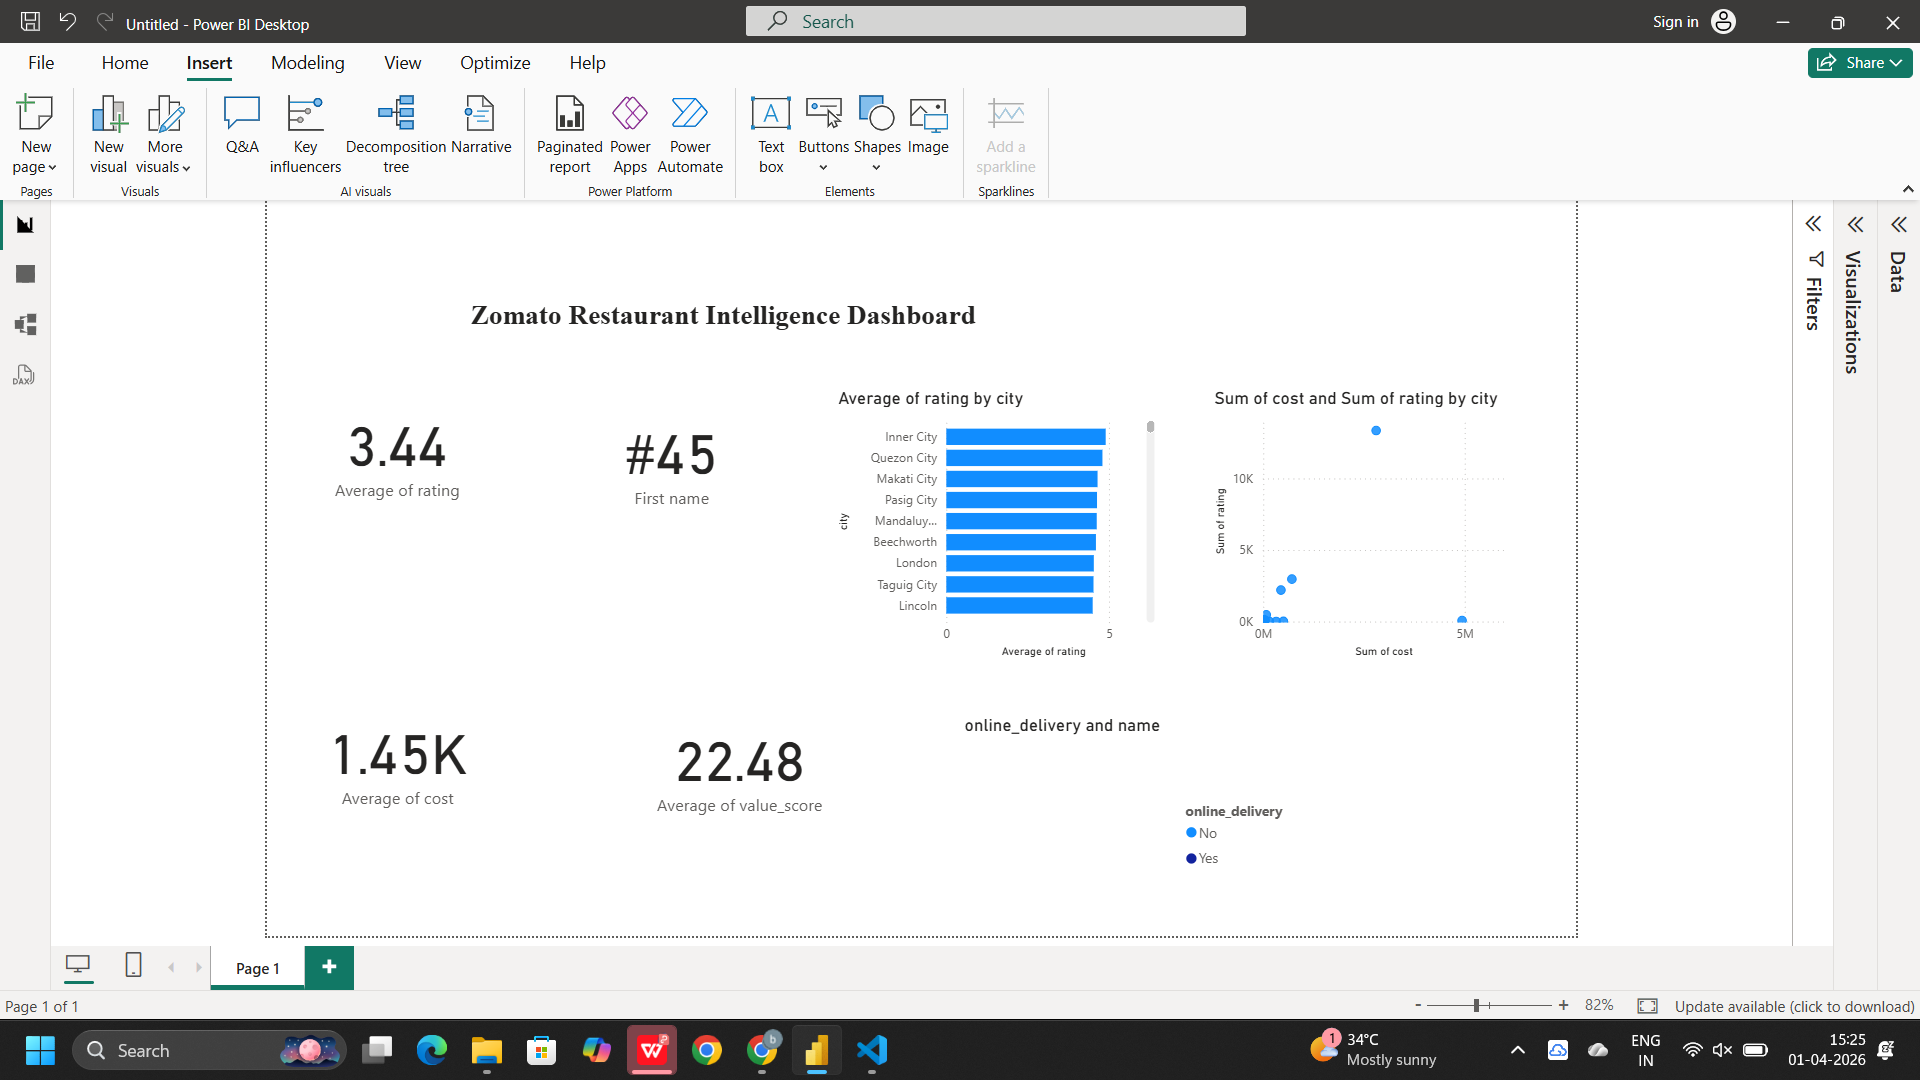

The dashboard page shown, as its layout file describes it:
{"tool":"powerbi","page":{"name":"Page 1","canvas":[1280,720],"ordinal":0},"visuals":[{"type":"card","fields":{"Values":["Avg(zomato_cleaned.rating)"]},"box":[27.4,109.8,201.7,270.3],"z":0},{"type":"card","fields":{"Values":["Avg(zomato_cleaned.cost)"]},"box":[13.7,439.1,229.2,215.4],"z":1},{"type":"card","fields":{"Values":["Min(zomato_cleaned.name)"]},"box":[295,146.8,203.1,212.7],"z":2},{"type":"card","fields":{"Values":["Avg(zomato_cleaned.value_score)"]},"box":[329.3,452.8,267.6,201.7],"z":3},{"type":"clusteredBarChart","fields":{"Category":["zomato_cleaned.city"],"Y":["Avg(zomato_cleaned.rating)"]},"box":[554.4,183.9,319.7,269],"z":4},{"type":"donutChart","fields":{"Category":["zomato_cleaned.online_delivery"],"Series":["zomato_cleaned.name"]},"box":[677.9,503.6,328,216.8],"z":5},{"type":"scatterChart","fields":{"Category":["zomato_cleaned.city"],"X":["Sum(zomato_cleaned.cost)"],"Y":["Sum(zomato_cleaned.rating)"]},"box":[922.1,183.9,303.3,269],"z":6},{"type":"textbox","box":[194.9,93.3,557.1,90.6],"z":7}]}

Visuals, with their boxes on the page's 1280x720 design canvas (x1, y1, x2, y2). These are canvas units, not pixel positions in the 1920x1080 screenshot, which may show the page scaled, cropped or inside an application window:
card - Avg(zomato_cleaned.rating): [27,110,229,380]
card - Avg(zomato_cleaned.cost): [14,439,243,654]
card - Min(zomato_cleaned.name): [295,147,498,360]
card - Avg(zomato_cleaned.value_score): [329,453,597,654]
clusteredBarChart - zomato_cleaned.city x Avg(zomato_cleaned.rating): [554,184,874,453]
donutChart - zomato_cleaned.online_delivery x zomato_cleaned.name: [678,504,1006,720]
scatterChart - zomato_cleaned.city x Sum(zomato_cleaned.cost): [922,184,1225,453]
textbox: [195,93,752,184]
